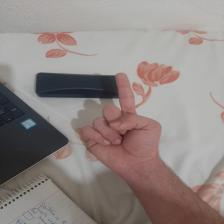one: (80, 72, 163, 177)
